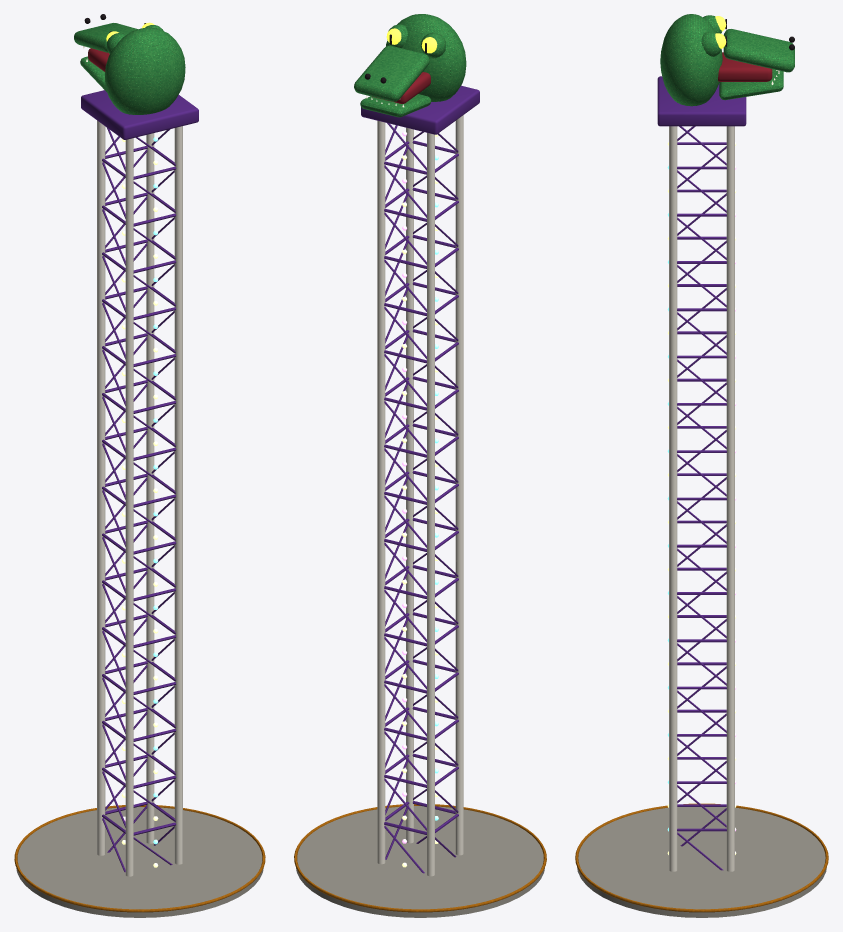
The model's file is drop-tower.glb.
3 renders of one model, left to right at view 1: azimuth 30°, elevation 25°; view 2: azimuth 150°, elevation 25°; view 3: azimuth 270°, elevation 25°, orthographic.
Visible parts, largest first — view 1: drop-tower; view 2: drop-tower; view 3: drop-tower.
Boxes of the visible parts, x1,y1,x2,y2 form: drop-tower: (14, 14, 265, 917); drop-tower: (294, 14, 546, 917); drop-tower: (575, 14, 828, 917).
Bounding box in the file's own units: 9.72 × 35.87 × 9.72.
Materials: 12 (2 with a texture image).
